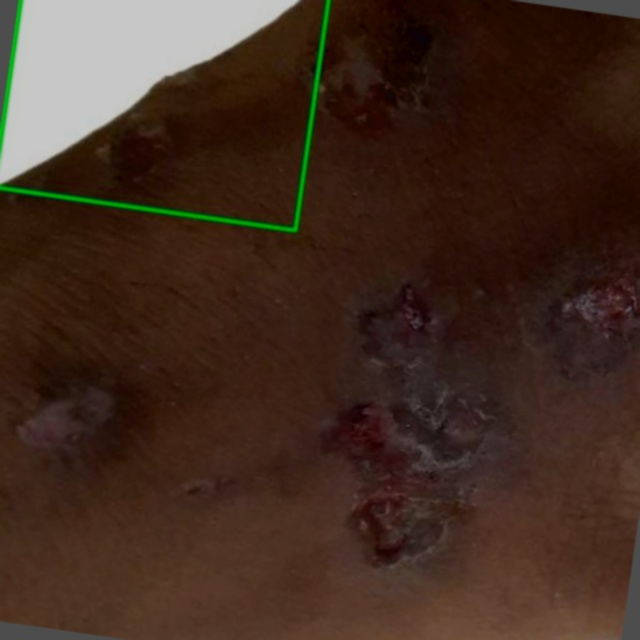Eczema: (0, 0, 327, 229)
